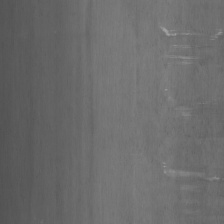waist_folding: (149, 27, 220, 184)
